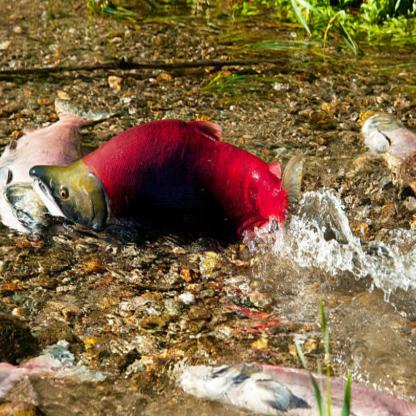sockeye: (32, 117, 304, 242)
